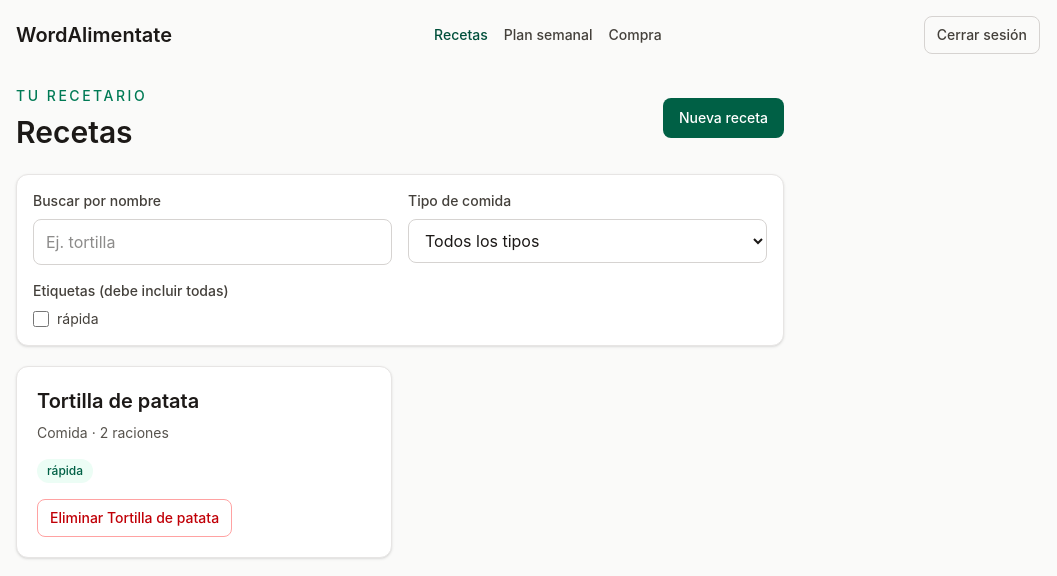
recipe catalog › asks for confirmation before deleting a recipe
This screenshot has width=1057, height=576.
expect the heading "Tortilla de patata" is shown: met, box [37,389,199,413]
Click the button "Eliminar Tortilla de patata". click: (135, 518)
box: [37,499,232,537]
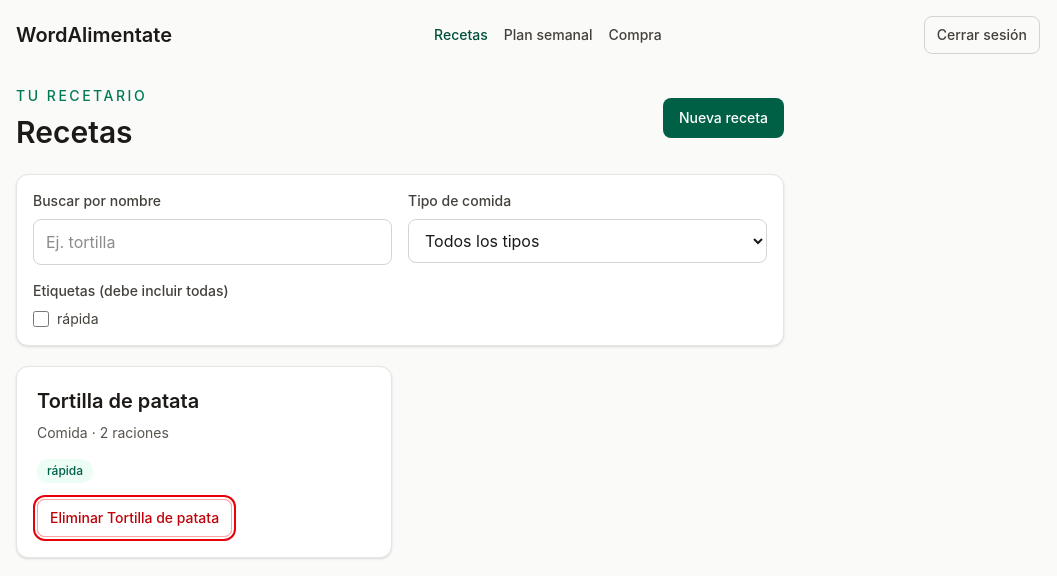
expect the heading "Tortilla de patata" is shown: met, box [37,389,199,413]
Click the button "Eliminar Tortilla de patata". click: (135, 518)
box: [37,499,232,537]
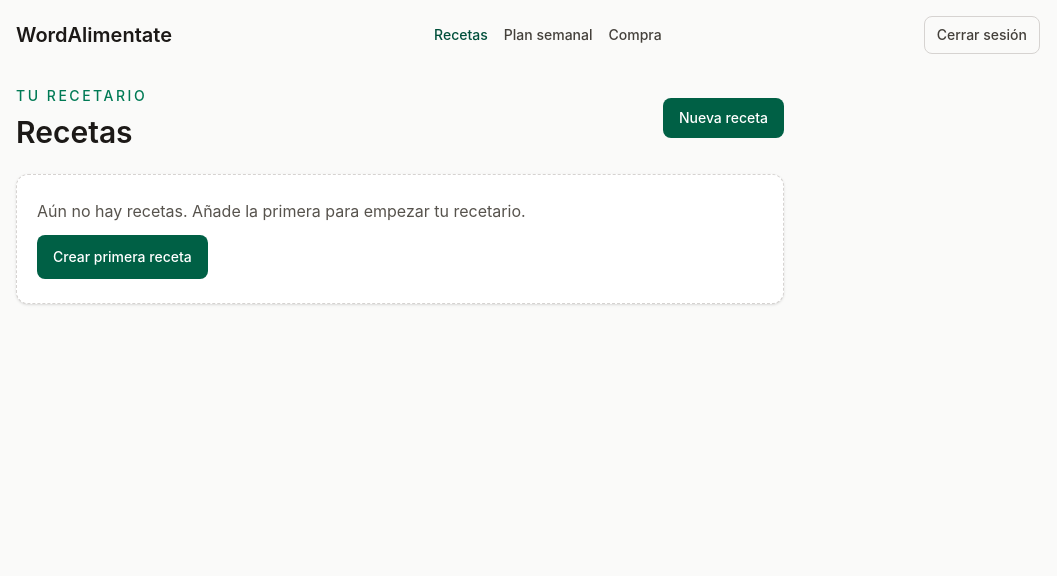
expect the text "Aún no hay recetas. Añade la primera para empezar tu recetario." is shown: met, box [37,199,526,223]
